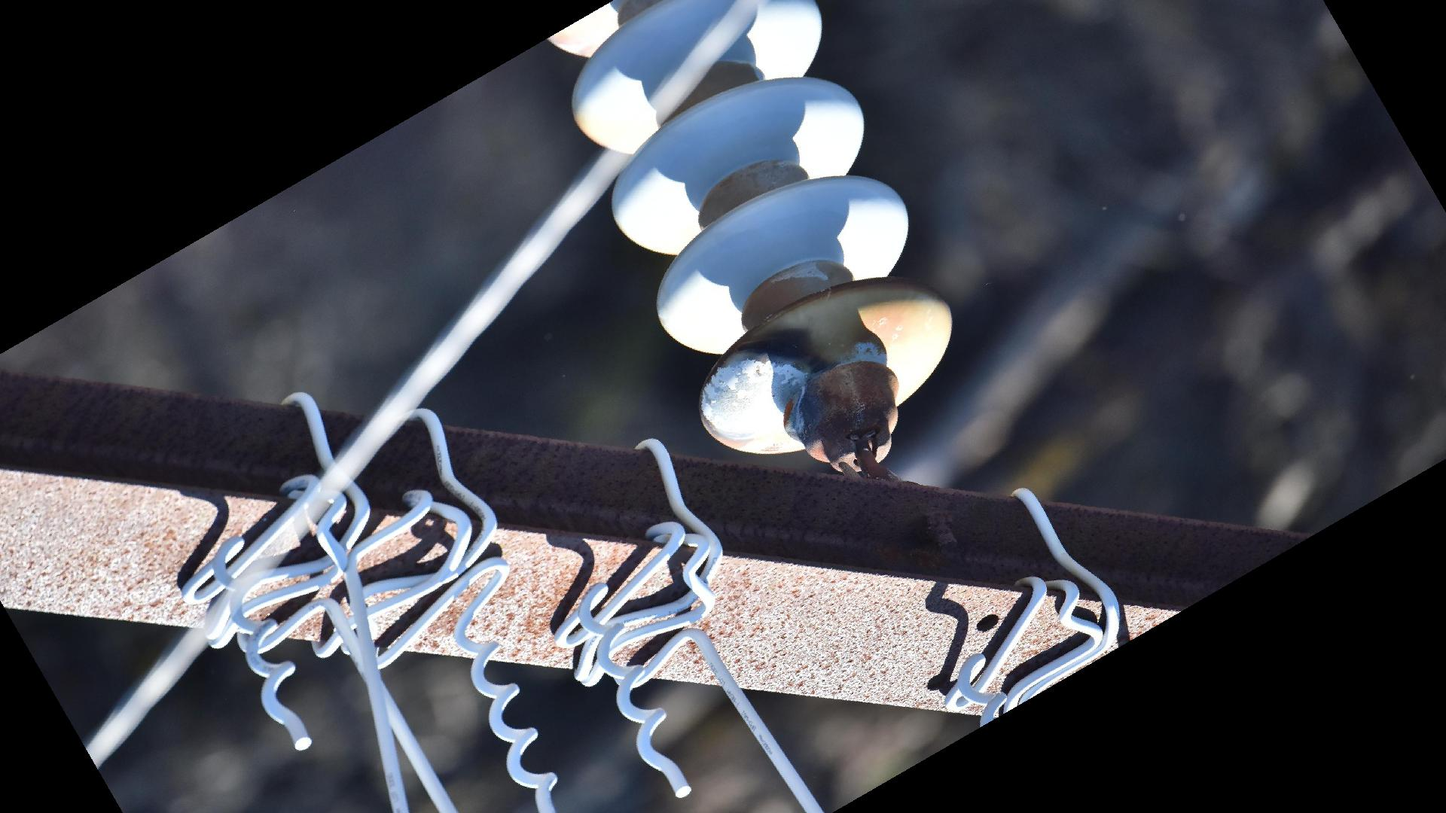insulator: (548, 1, 959, 464)
insulator_flashover: (694, 360, 811, 444)
